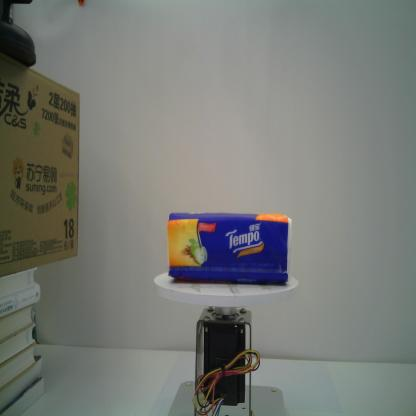Tissue: (167, 212, 292, 284)
